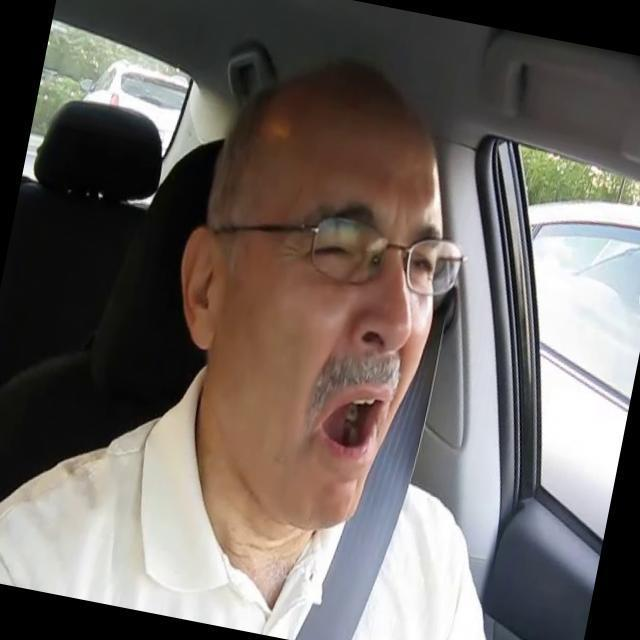open-mouth: (316, 385, 388, 460)
